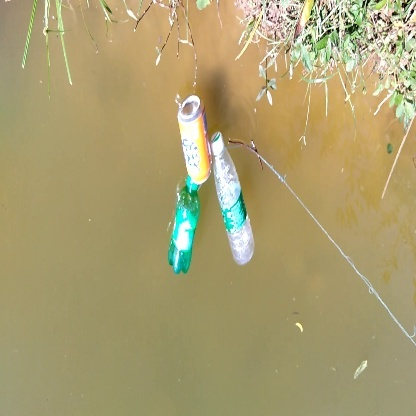bottle: (211, 133, 257, 265), (176, 94, 212, 186)
